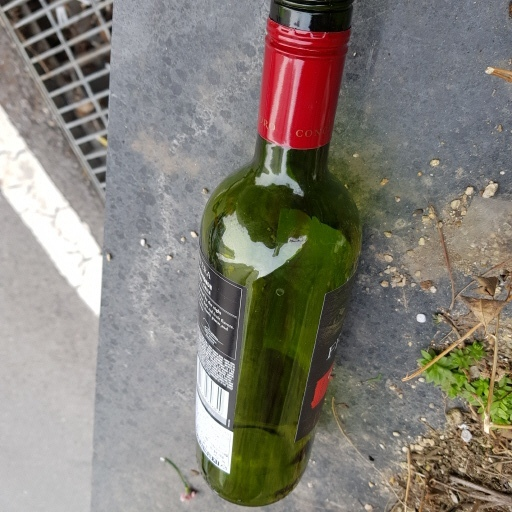Glass_2: (193, 2, 366, 512)
